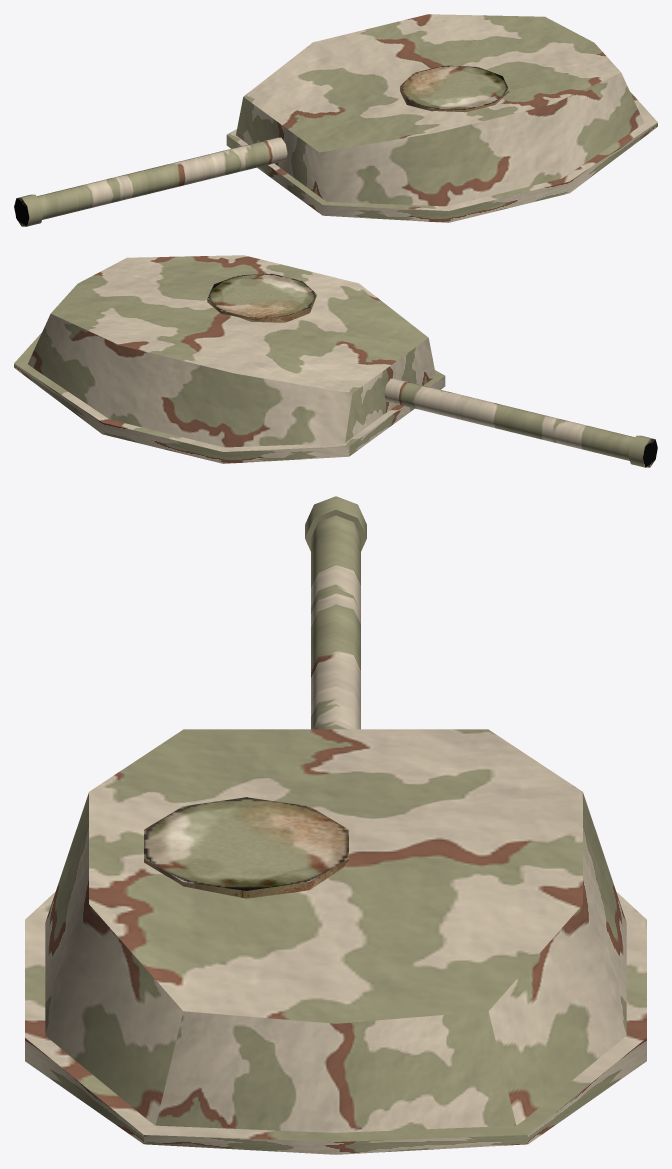
Rendered from turret.obj.
3 renders of one model, top to bottom at view 1: azimuth 30°, elevation 25°; view 2: azimuth 150°, elevation 25°; view 3: azimuth 270°, elevation 25°, orthographic. The views are drawn at different scales.
Visible parts, largest first — view 1: Cylinder08, barrel, Duplicate13, Cylinder14; view 2: Cylinder08, barrel, Duplicate13, Cylinder14; view 3: Cylinder08, Duplicate13, Cylinder14, barrel.
Part boxes in pixels (left/top/right/bottom): Cylinder08: left=236, top=14, right=643, bottom=206; barrel: left=14, top=137, right=287, bottom=226; Duplicate13: left=226, top=92, right=657, bottom=222; Cylinder14: left=400, top=65, right=509, bottom=112; Cylinder08: left=28, top=255, right=435, bottom=447; barrel: left=384, top=378, right=657, bottom=467; Duplicate13: left=14, top=333, right=445, bottom=463; Cylinder14: left=207, top=273, right=316, bottom=322; Cylinder08: left=45, top=729, right=626, bottom=1132; Duplicate13: left=25, top=892, right=646, bottom=1154; Cylinder14: left=144, top=797, right=348, bottom=898; barrel: left=305, top=496, right=366, bottom=729.
Bounding box in the file's own units: 31.94 × 4.04 × 14.34.
1 material, 1 textured.
